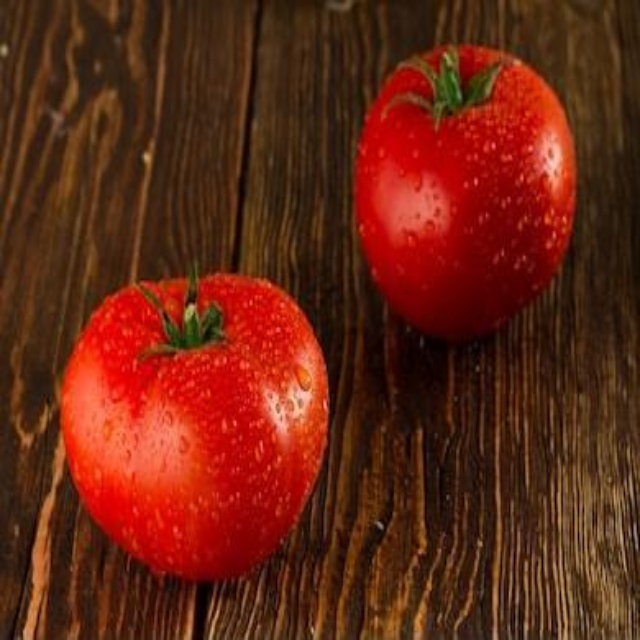tomato: (56, 283, 337, 576), (354, 48, 585, 339)
